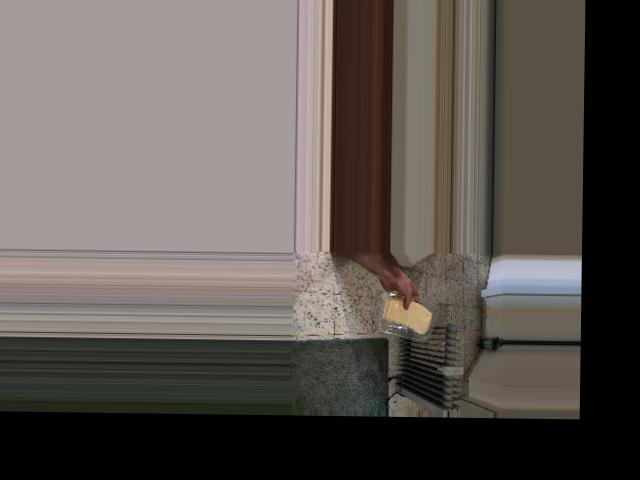cheese: (378, 293, 437, 335)
